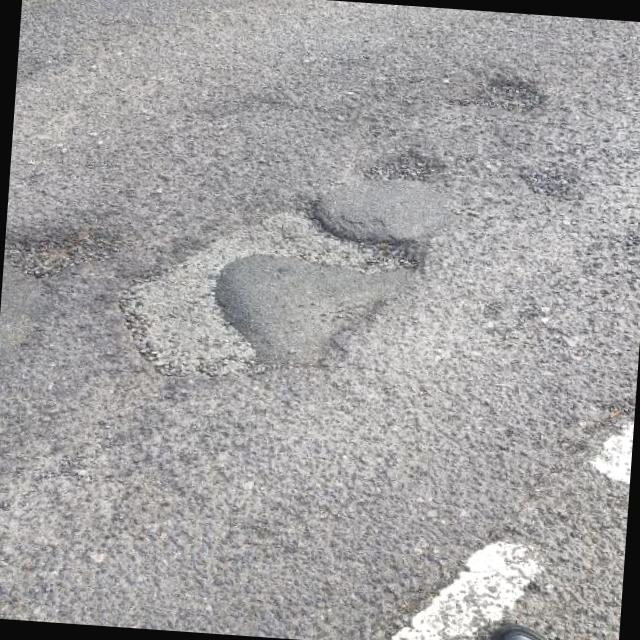pothole: (100, 179, 438, 399)
